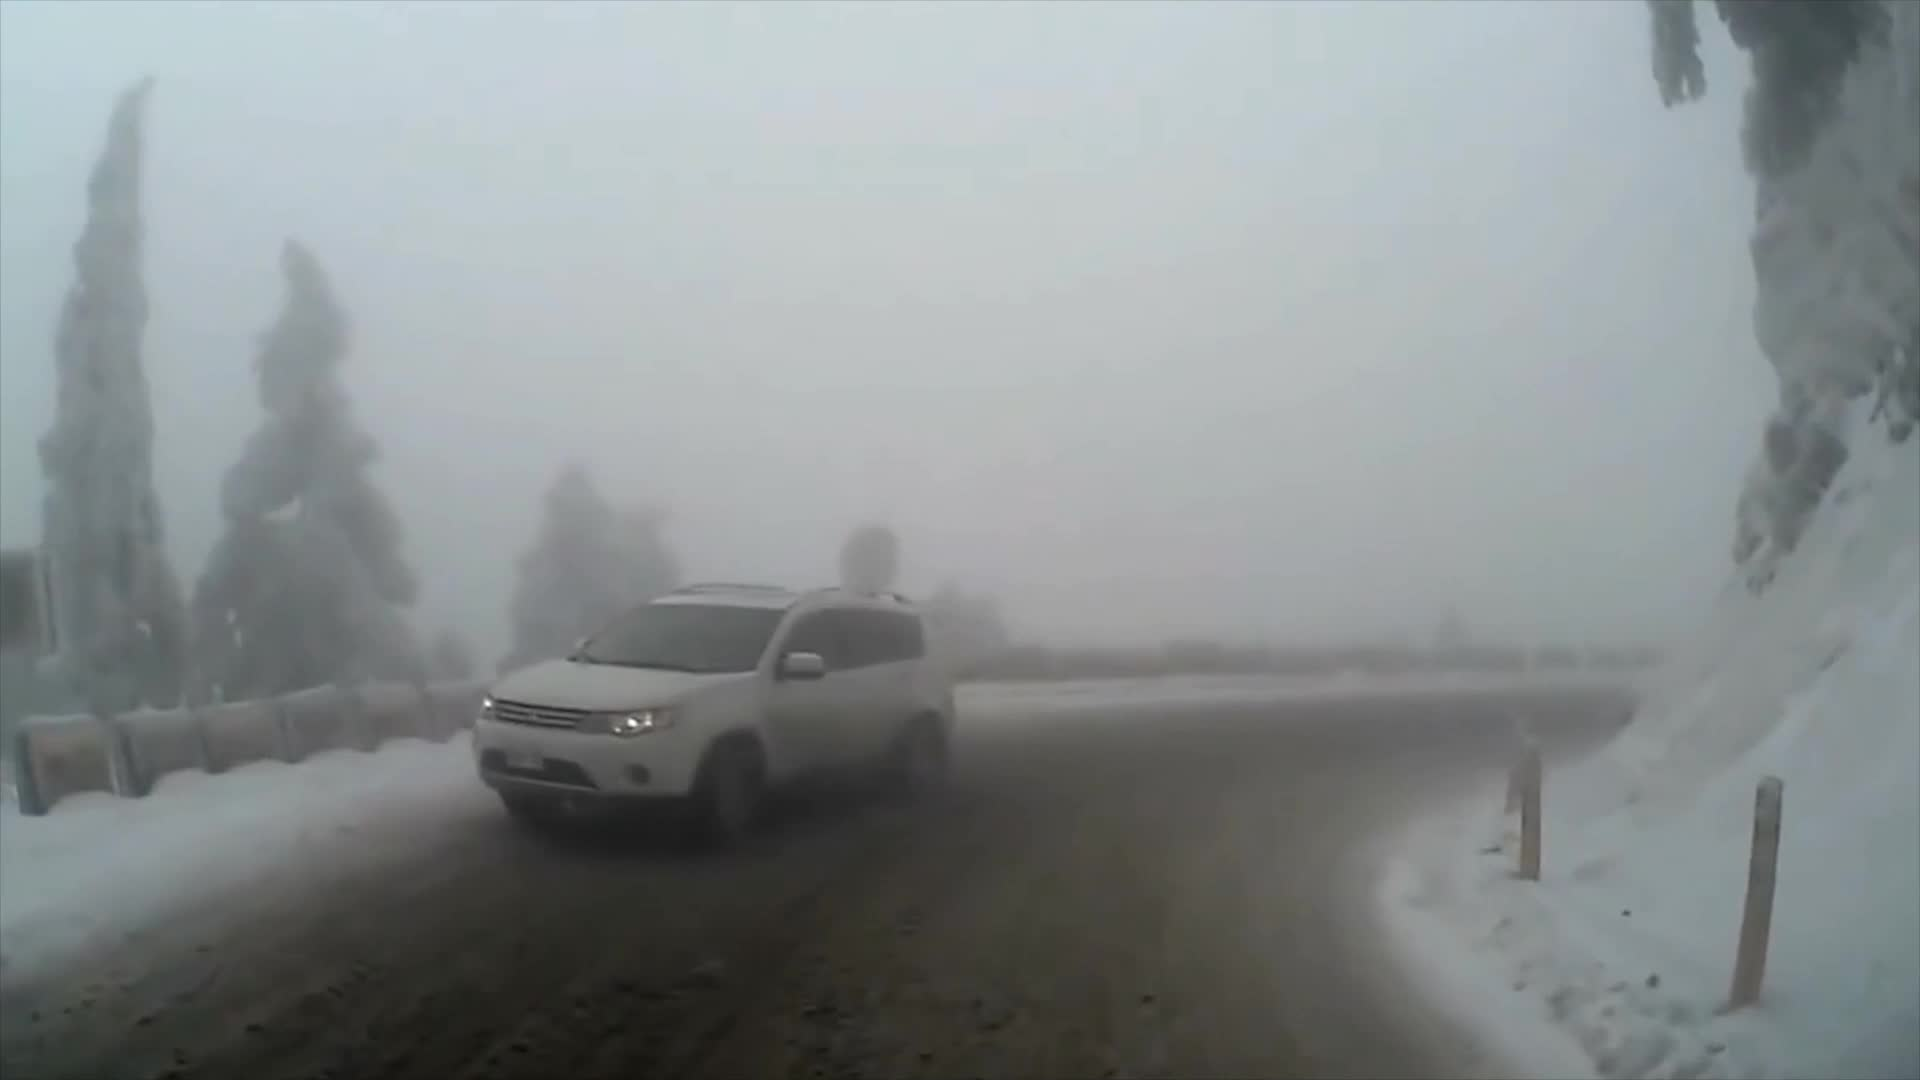vehicle: (467, 582, 957, 855)
